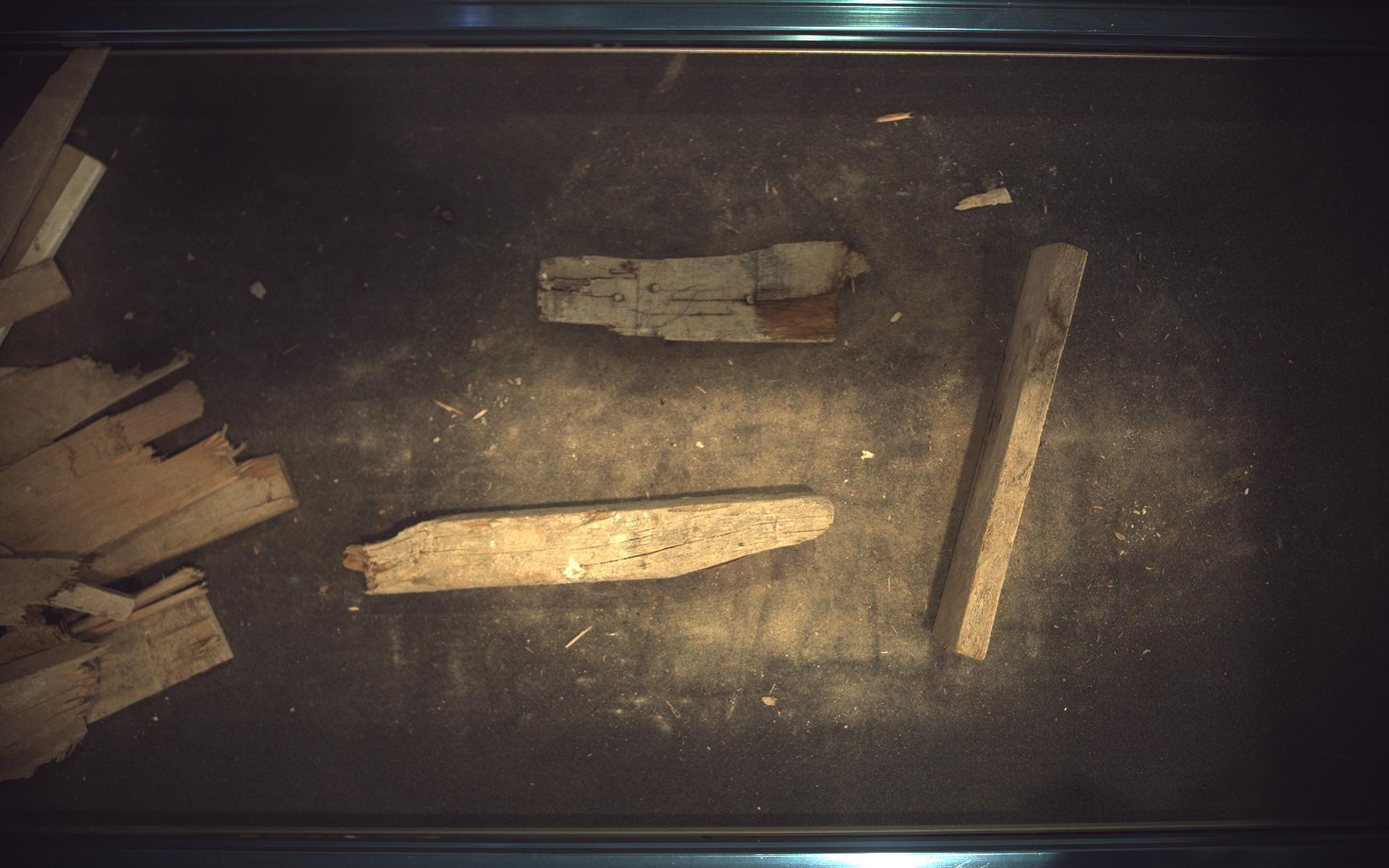wood: (935, 242, 1089, 660), (343, 490, 836, 595), (538, 241, 872, 342)
